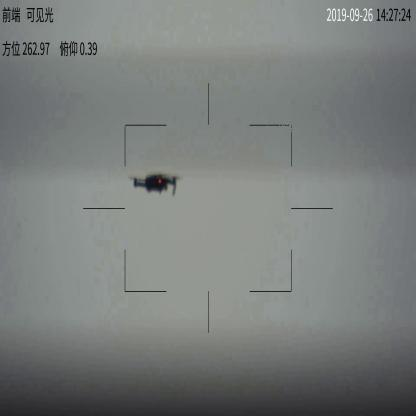uav: (130, 170, 186, 196)
